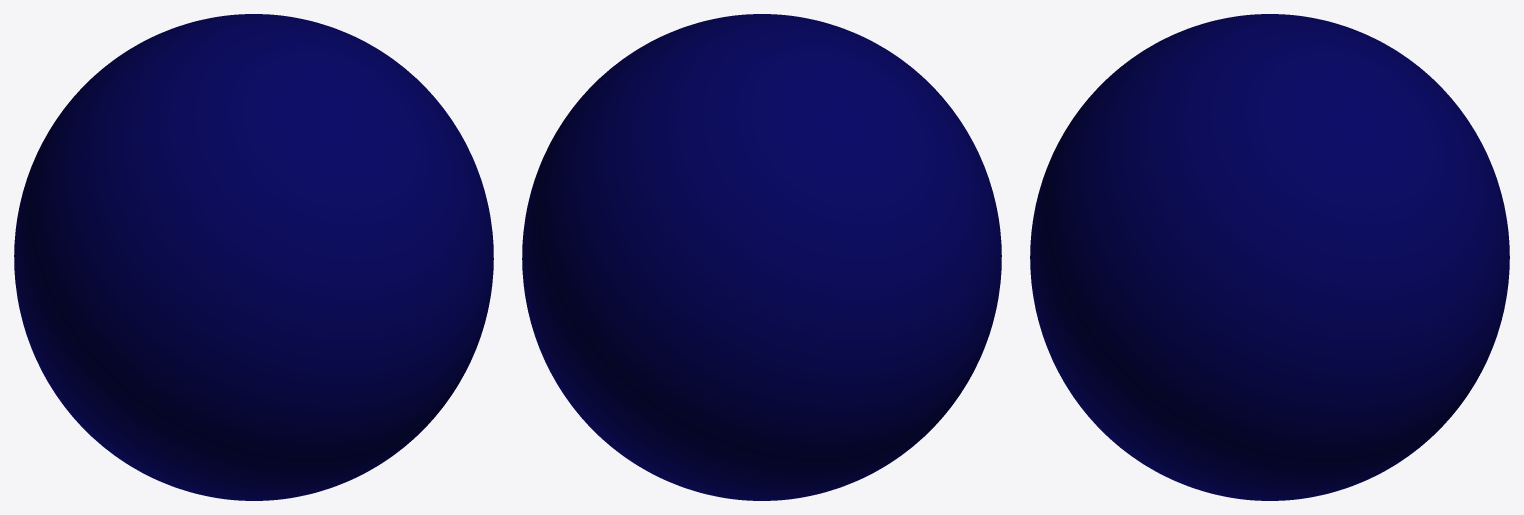
File: IridescentCyberSlime.glb
3 views of the same model, side by side, from view 1: azimuth 30°, elevation 25°; view 2: azimuth 150°, elevation 25°; view 3: azimuth 270°, elevation 25° (orthographic).
Parts seen in each view (by area): view 1: Sphere; view 2: Sphere; view 3: Sphere.
Boxes of the visible parts, box(x1,y1,x2,y2) form: Sphere: box(14, 14, 493, 500); Sphere: box(522, 14, 1001, 500); Sphere: box(1030, 14, 1509, 500).
Bounding box in the file's own units: 8.53 × 8.66 × 8.53.
